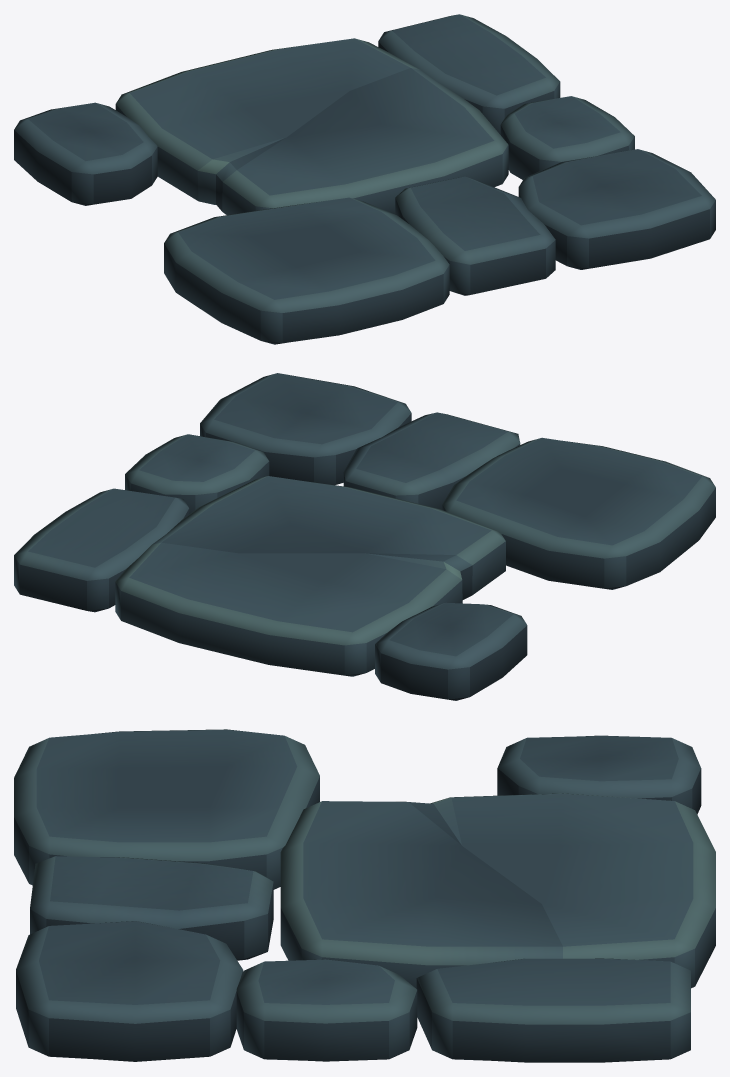
Rendered from stone_path_1_LOD_setup.fbx.
3 views of the same model, one above another, from view 1: azimuth 30°, elevation 25°; view 2: azimuth 150°, elevation 25°; view 3: azimuth 270°, elevation 25° (orthographic). The views are drawn at different scales.
Parts seen in each view (by area): view 1: stone_path_1_LOD0; view 2: stone_path_1_LOD0; view 3: stone_path_1_LOD0.
Part boxes in pixels (x1,y1,x2,y2): stone_path_1_LOD0: (14,14,715,344); stone_path_1_LOD0: (14,373,715,700); stone_path_1_LOD0: (14,729,715,1062).
Size of what is drawn, in the model's own units: 205 by 18.28 by 206.
